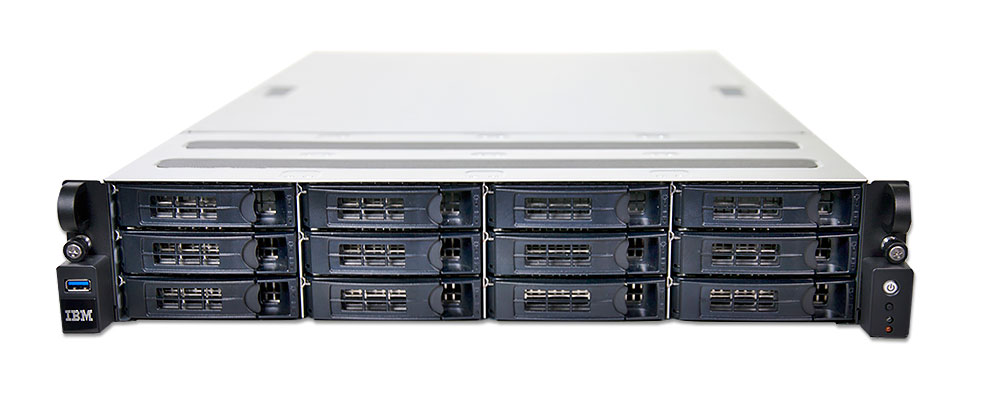ibm-server: (40, 40, 929, 352)
